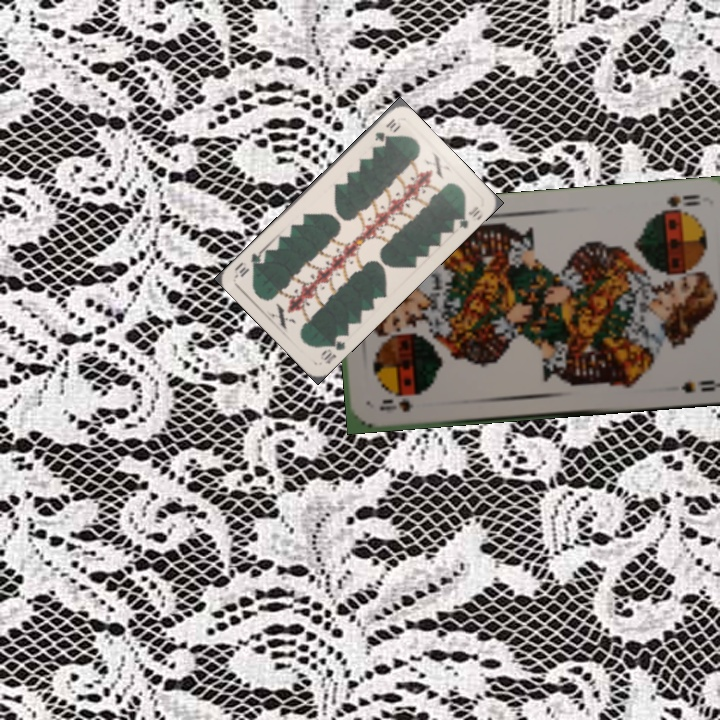G10: (317, 331, 348, 366), (370, 114, 402, 144)
SO: (663, 190, 703, 210), (376, 394, 414, 414)
